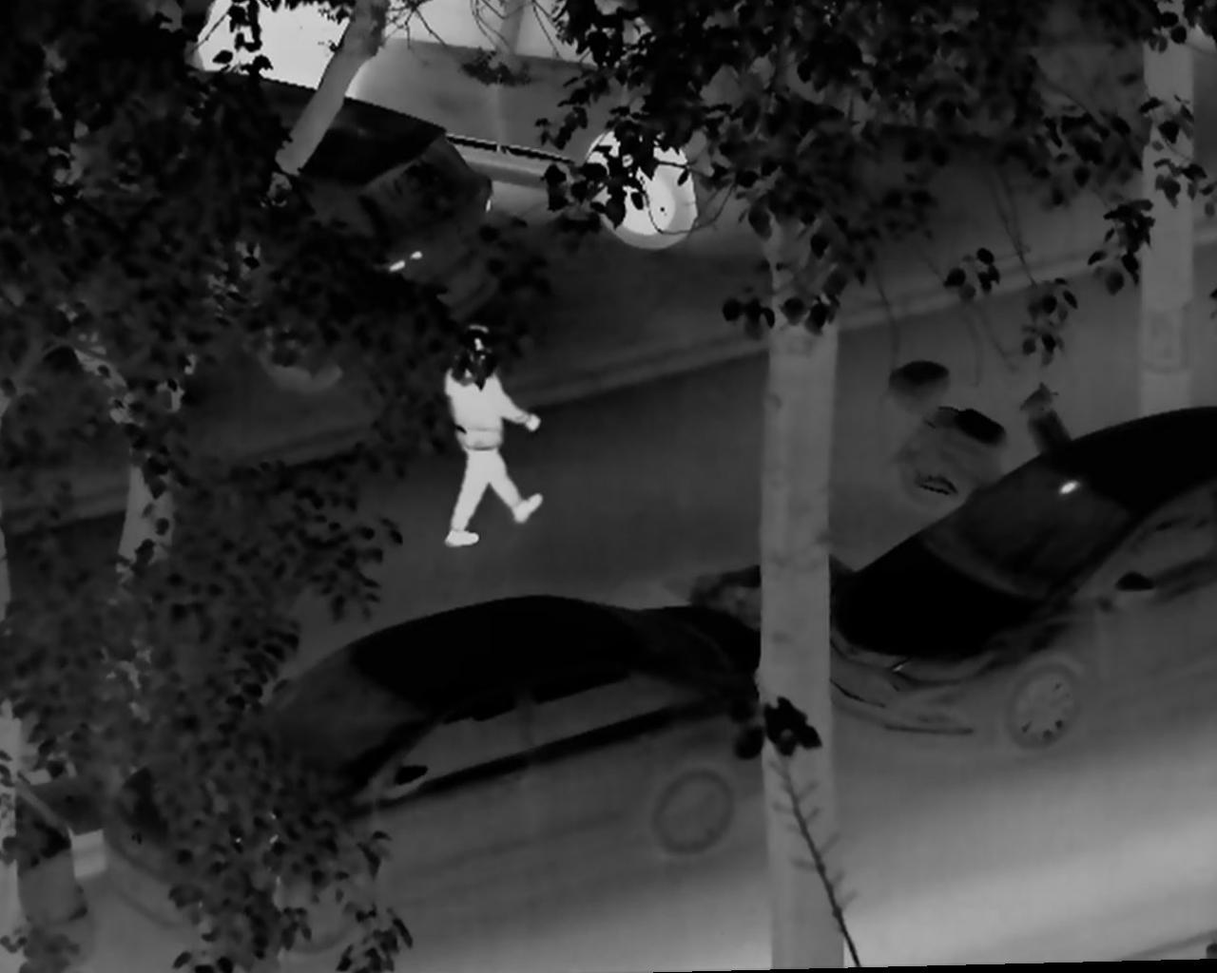person: (432, 325, 549, 555)
